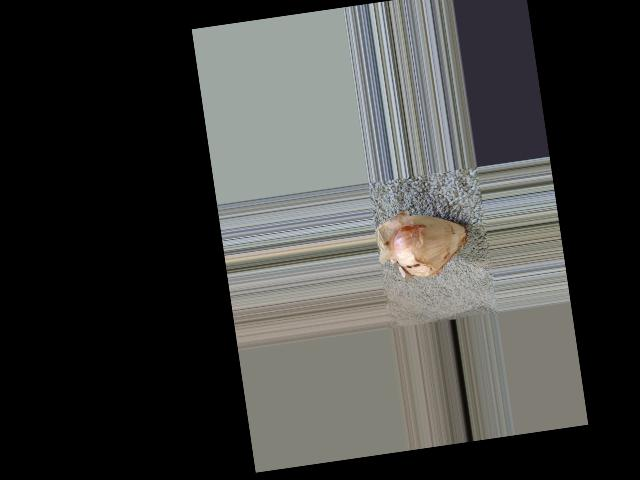onion: (392, 211, 474, 281)
